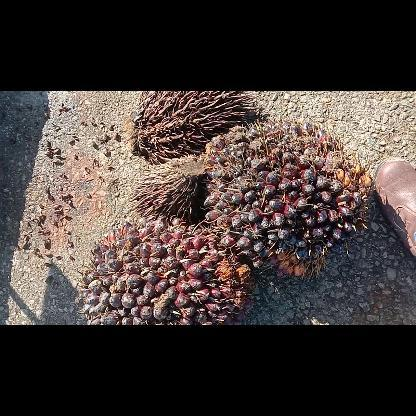Janjang kosong: (132, 91, 258, 164), (127, 154, 206, 218)
TBS mentah: (204, 118, 370, 280), (76, 216, 254, 324)
